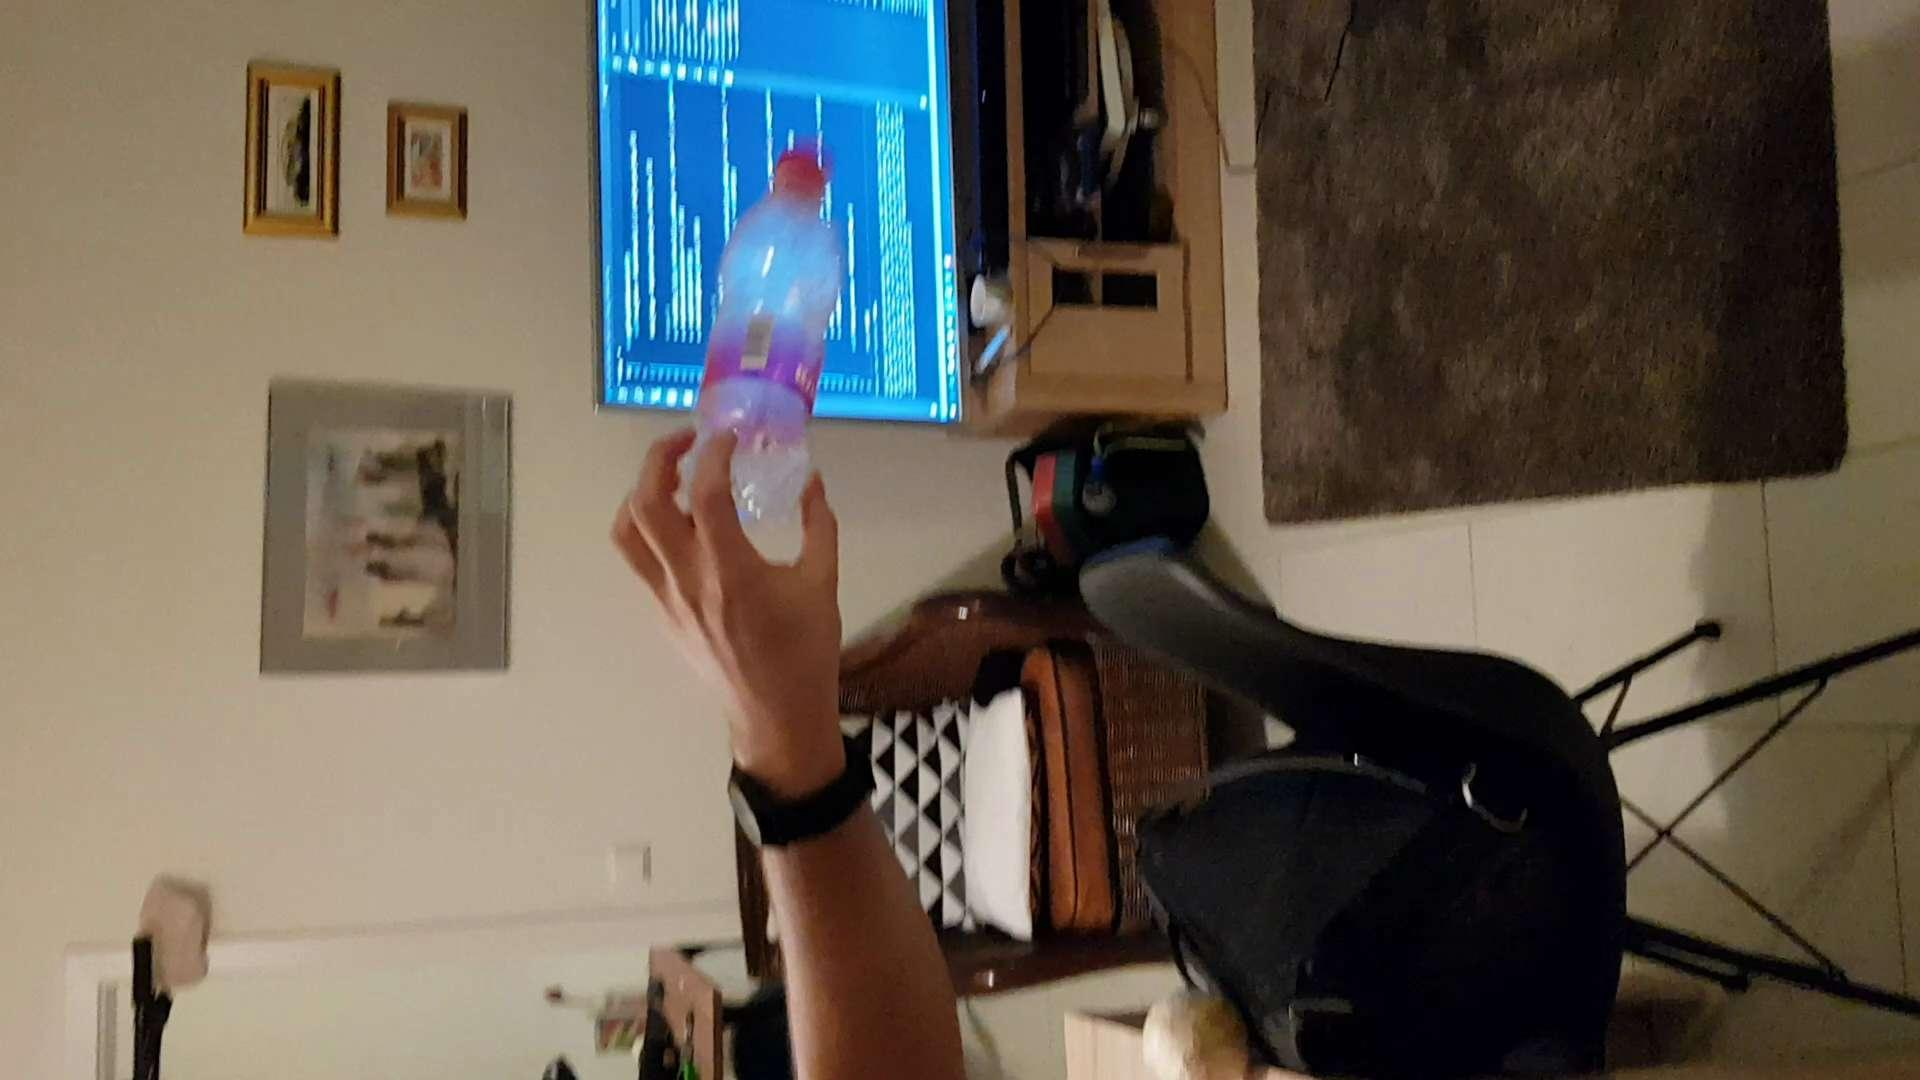Bottle: (661, 145, 848, 520)
